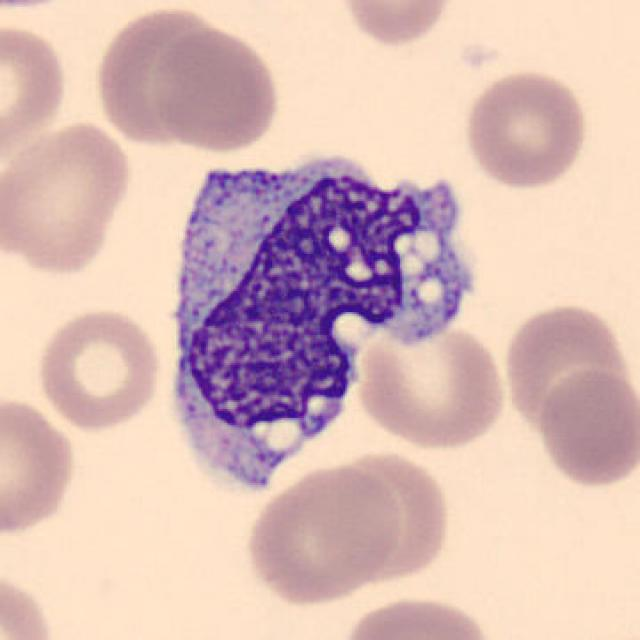Monocyte: (153, 127, 491, 490)
RBC: (240, 458, 405, 608), (350, 312, 512, 451), (0, 116, 137, 278), (90, 2, 228, 150), (318, 449, 457, 589), (498, 298, 634, 441), (32, 303, 165, 434), (148, 25, 282, 155), (460, 67, 592, 192), (532, 365, 638, 492), (0, 392, 80, 540), (0, 18, 71, 171), (335, 590, 501, 640), (332, 0, 458, 49), (0, 566, 60, 640)
